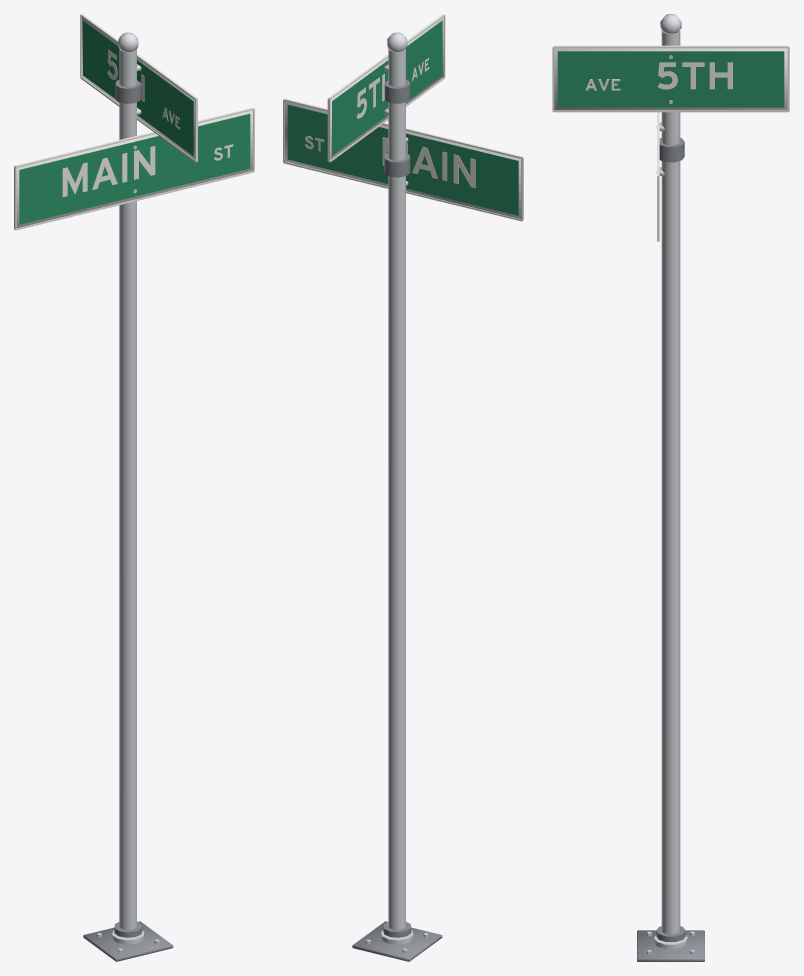
Rendered from Sign_StreetName.fbx.
3 views of the same model, side by side, from view 1: azimuth 30°, elevation 25°; view 2: azimuth 150°, elevation 25°; view 3: azimuth 270°, elevation 25° (orthographic). The views are drawn at different scales.
Visible parts, largest first — view 1: LOD0; view 2: LOD0; view 3: LOD0.
Part boxes in pixels (x1,y1,x2,y2): LOD0: (14, 14, 254, 961); LOD0: (283, 14, 523, 961); LOD0: (552, 14, 789, 961).
Size of what is drawn, in the model's own units: 92 by 334 by 76.8.
